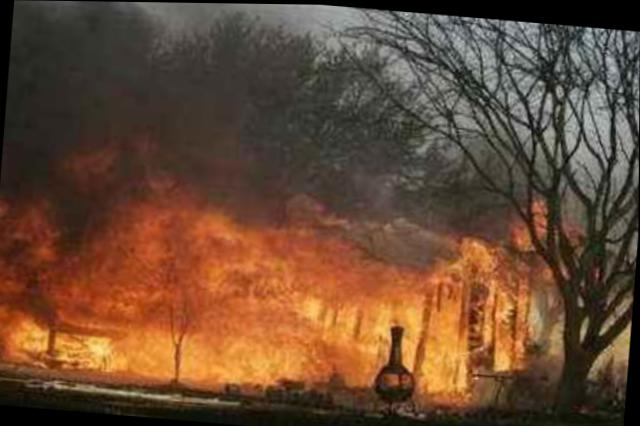fire: (0, 154, 559, 412)
